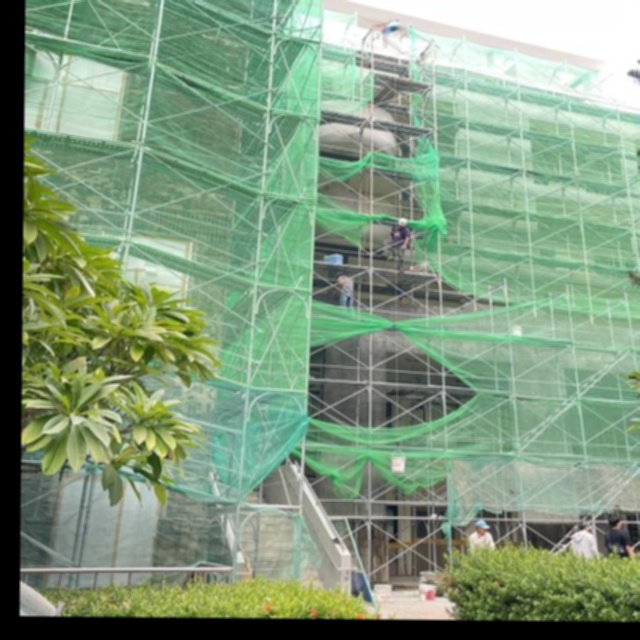Con_Casco: (399, 218, 408, 226)
Sin_Casco_Mascarrilla: (474, 520, 490, 533), (609, 517, 622, 529), (577, 521, 591, 532)
